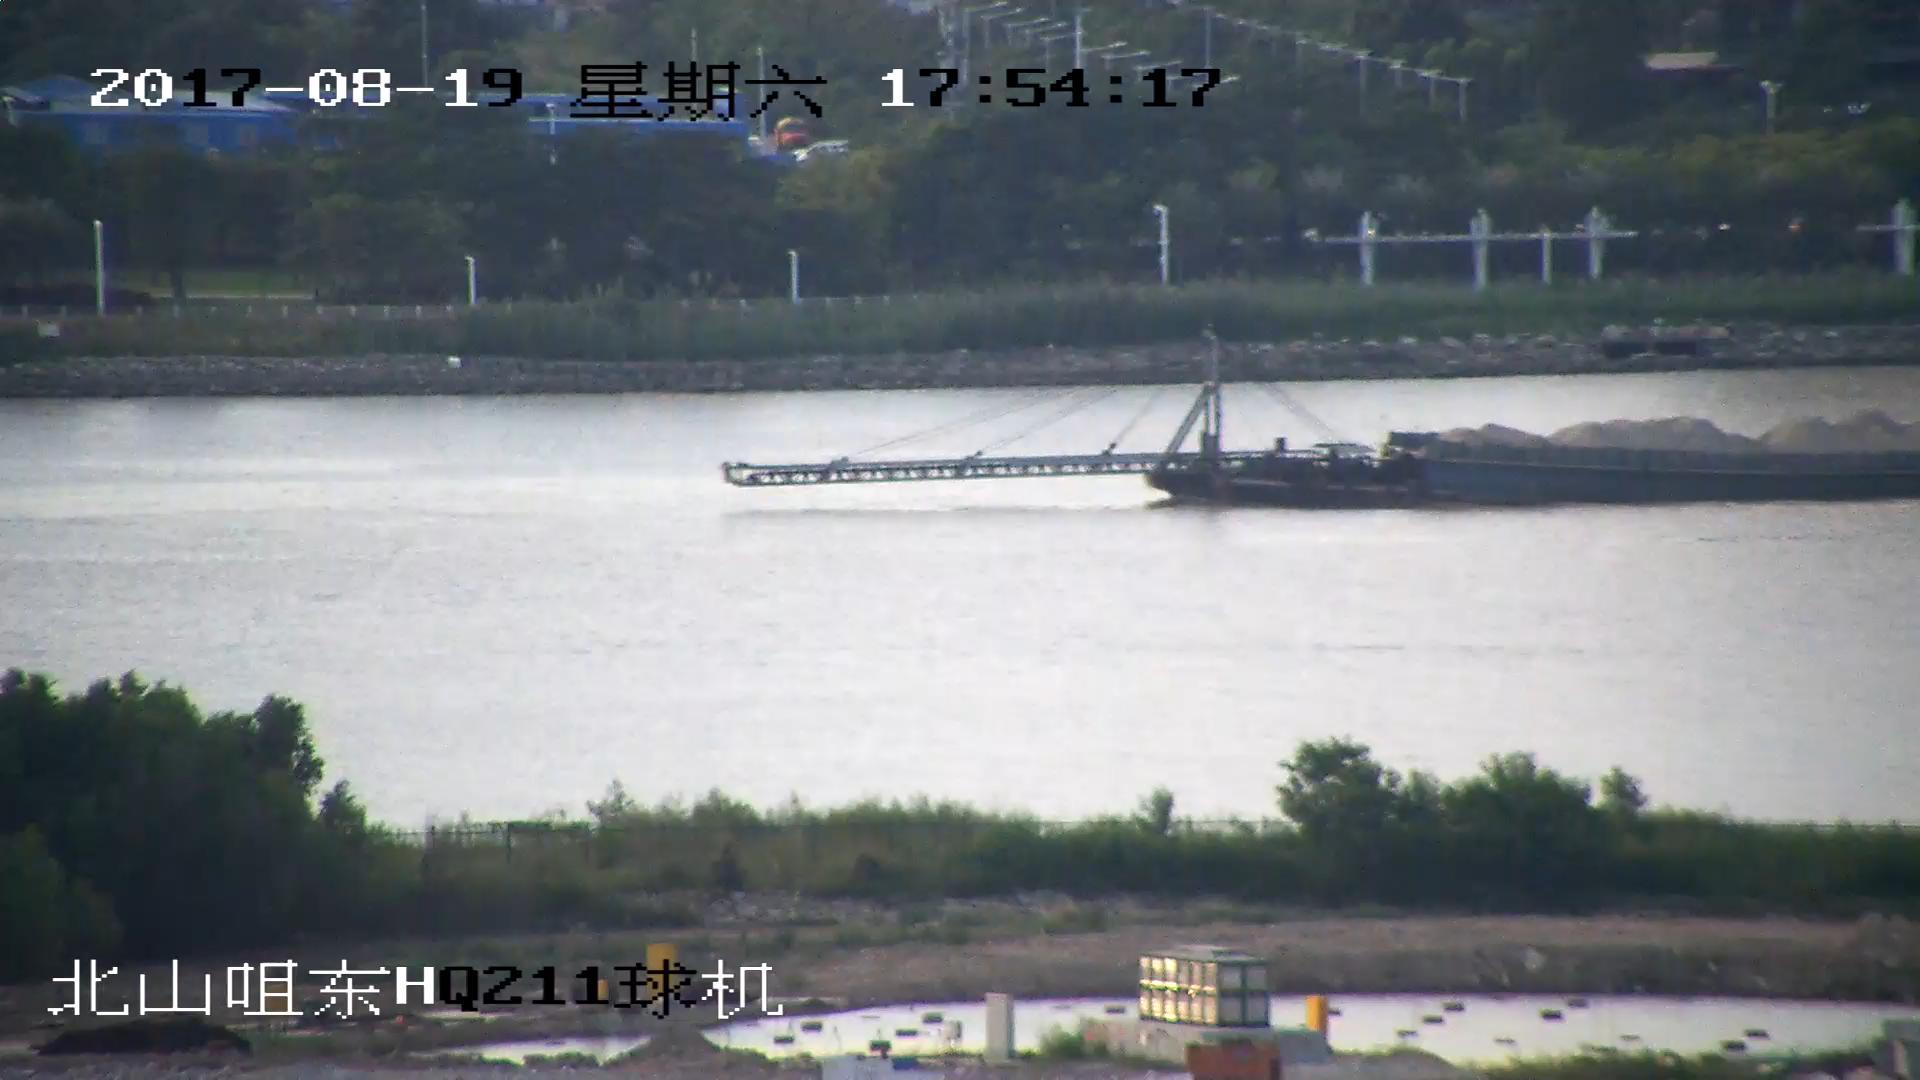Ship: (723, 340, 1920, 512)
